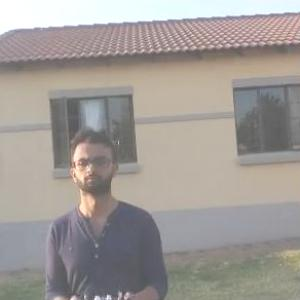follow: (40, 116, 177, 299)
